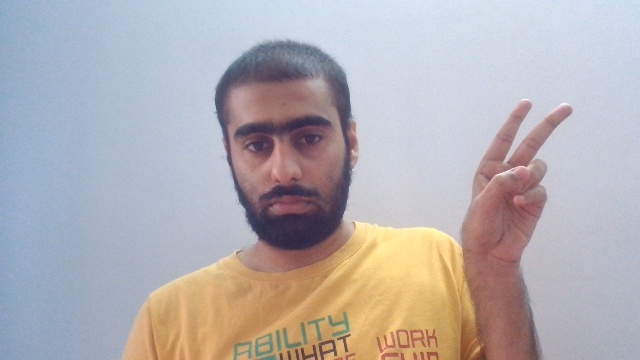scissors: (459, 97, 573, 264)
